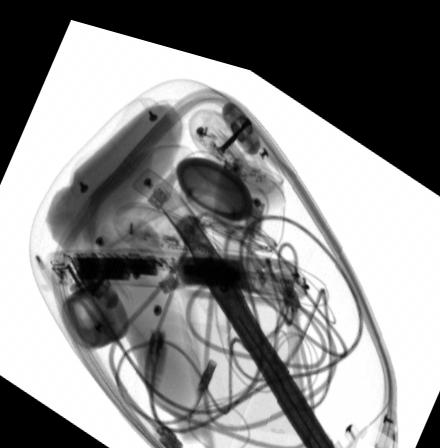Baton: (45, 240, 306, 284)
